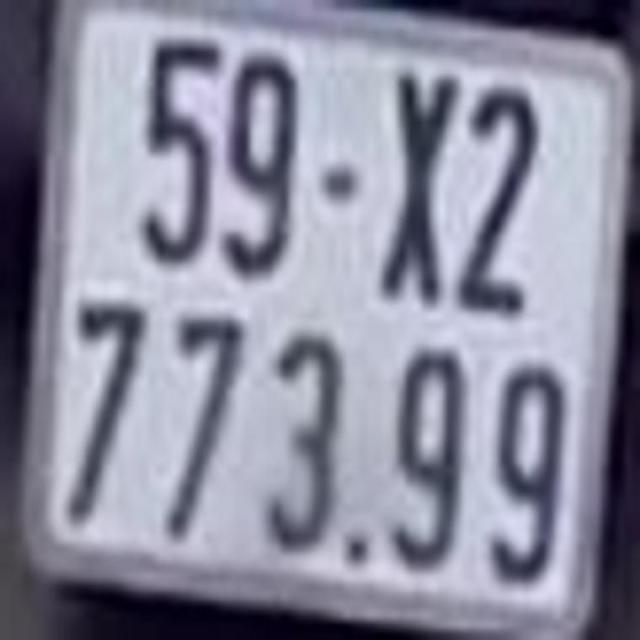2: (456, 69, 542, 320)
3: (264, 316, 340, 550)
5: (142, 36, 218, 268)
7: (158, 305, 245, 545), (69, 288, 142, 530)
9: (490, 346, 570, 609), (219, 39, 299, 280), (386, 336, 465, 577)
X: (381, 66, 454, 304)
